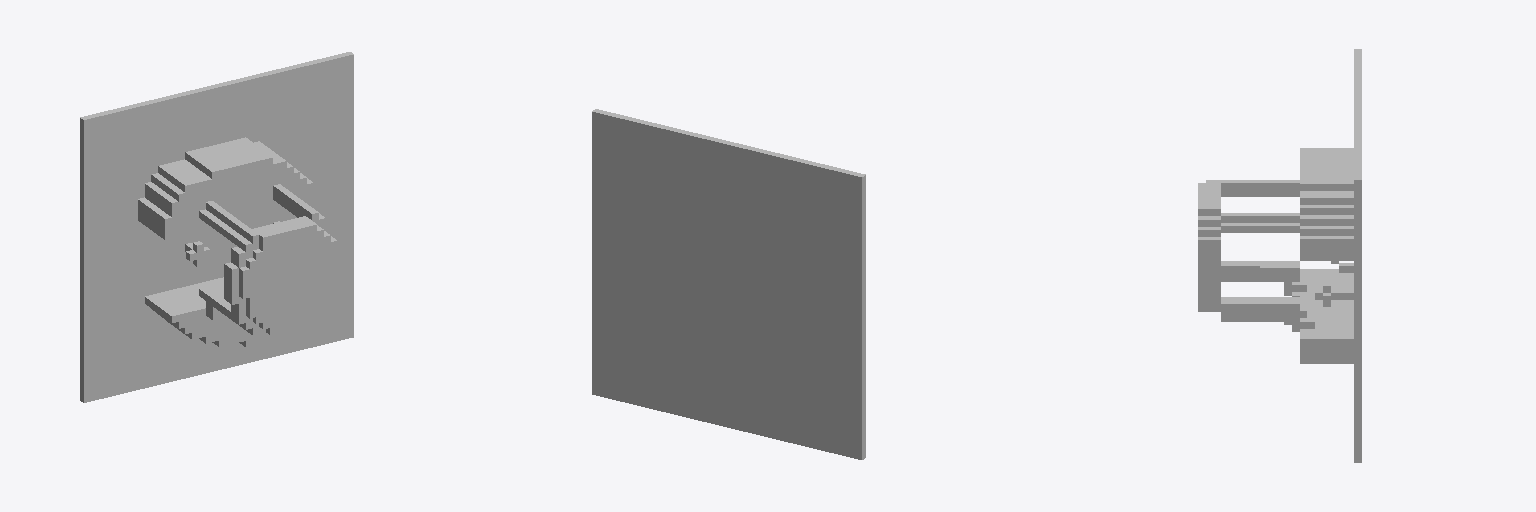
Rendered from adler_map0.obj.
3 views of the same model, side by side, from view 1: azimuth 30°, elevation 25°; view 2: azimuth 150°, elevation 25°; view 3: azimuth 270°, elevation 25° (orthographic).
Parts seen in each view (by area): view 1: Object.1; view 2: Object.1; view 3: Object.1.
Part boxes in pixels (x1,y1,x2,y2): Object.1: (80, 52, 353, 402); Object.1: (592, 109, 865, 459); Object.1: (1198, 49, 1361, 462).
Size of the model in its own units: 102 by 102 by 53.34.